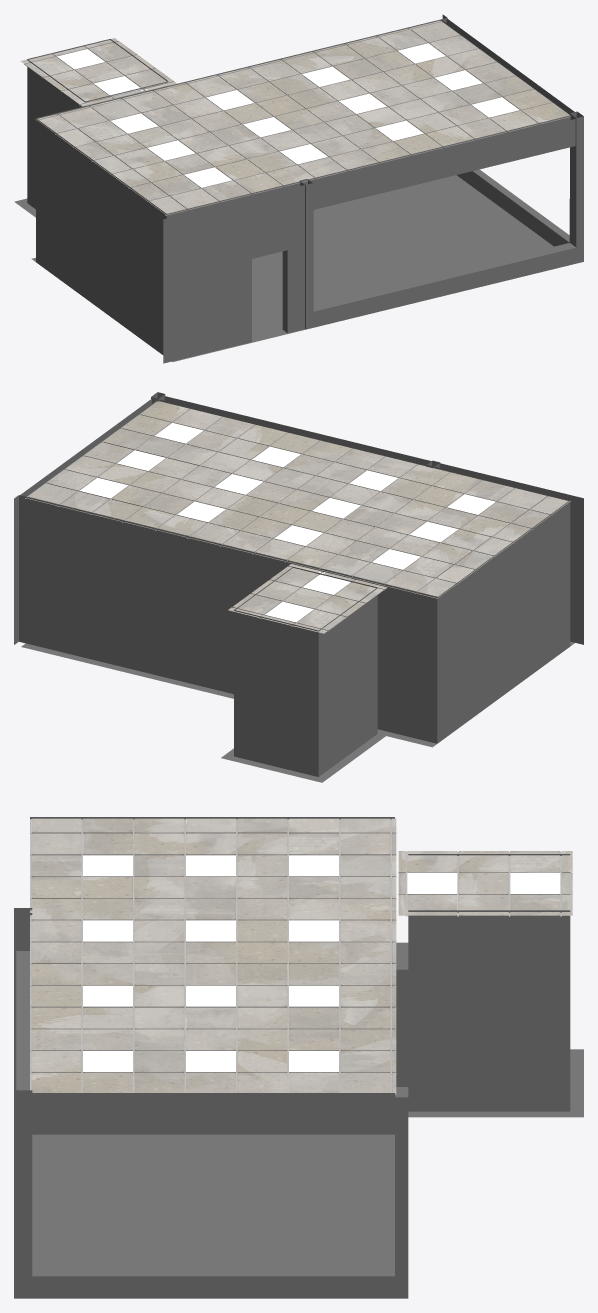
File: rooms.fbx
3 views of the same model, one above another, from view 1: azimuth 30°, elevation 25°; view 2: azimuth 150°, elevation 25°; view 3: azimuth 270°, elevation 25° (orthographic). The views are drawn at different scales.
Visible parts, largest first — view 1: Wall_01, Roof, Floor_01; view 2: Wall_01, Roof, Floor_01; view 3: Roof, Wall_01, Floor_01.
Boxes of the visible parts, box(x1,y1,x2,y2) form: Wall_01: box(27, 14, 583, 363); Roof: box(20, 20, 570, 215); Floor_01: box(14, 175, 553, 361); Wall_01: box(14, 392, 583, 776); Roof: box(25, 401, 570, 633); Floor_01: box(21, 641, 574, 782); Roof: box(30, 818, 572, 1095); Wall_01: box(14, 817, 570, 1298); Floor_01: box(32, 1049, 583, 1271).
Bounding box in the file's own units: 1098 × 364 × 924.
